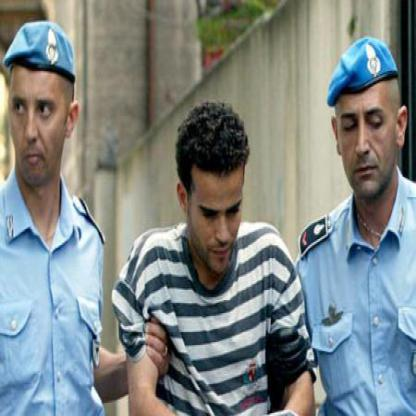face: (336, 49, 399, 202), (11, 26, 70, 187), (189, 116, 248, 277)
